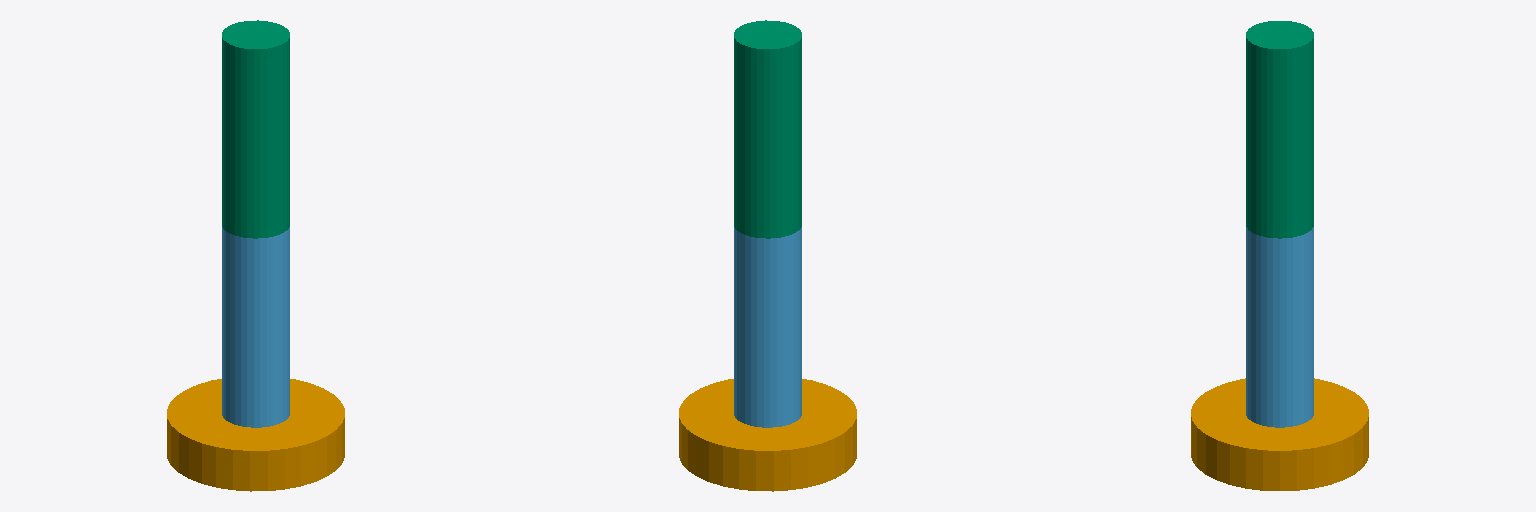
The robot description file, URDF, robot "pole":
<?xml version='1.0'?>
<robot name ="pole">
    <link name="basepole_link">    

      <inertial>
        <mass value="100" />
        <inertia ixx="1.0" ixy="0.0" ixz="0.0" iyy="1.0" iyz="0.0" izz="1.0" />
      </inertial>

      <visual>
      <origin xyz= "0 0 0"/>
        <geometry>
          <cylinder length="0.15" radius="0.30"/>
        </geometry>
      </visual> 

      <collision>
        <origin xyz="0 0 0"/>
        <geometry>
             <cylinder length="0.15" radius="0.30"/>
        </geometry>
      </collision>

      </link>

        <gazebo reference="basepole_link">
        <material>Gazebo/Green</material>
        <turnGravityOff>true</turnGravityOff>
    </gazebo>
  
      <link name="firstpole_link">    
   
    <inertial>
        <mass value="100" />
        <inertia ixx="1.0" ixy="0.0" ixz="0.0" iyy="1.0" iyz="0.0" izz="1.0" />
    </inertial>

      <visual>
        <origin xyz= "0 0 0.425"/>
        <geometry>
          <cylinder length="0.70" radius="0.115"/>
        </geometry>
      </visual> 

      <collision>
      <origin xyz= "0 0 0.425"/>
        <geometry>
          <cylinder length="0.70" radius="0.115"/>
        </geometry>
      </collision>


      </link>
     

      <joint name="basepole_to_firstpole" type="fixed">
      <parent link="basepole_link"/>
       <child link="firstpole_link"/>
     </joint>

       <gazebo reference="firstpole_link">
        <material>Gazebo/Green</material>
        <turnGravityOff>true</turnGravityOff>
    </gazebo>


    <link name="secondpole_link">    

    <inertial>
        <mass value="100" />
        <inertia ixx="1.0" ixy="0.0" ixz="0.0" iyy="1.0" iyz="0.0" izz="1.0" />
    </inertial>

      <visual>
        <origin xyz= "0 0 1.125"/>
        <geometry>
          <cylinder length="0.70" radius="0.115"/>
        </geometry>
      </visual> 

      <collision>
      <origin xyz= "0 0 1.125"/>
        <geometry>
          <cylinder length="0.70" radius="0.115"/>
        </geometry>
      </collision>

    </link>

    <gazebo reference="secondpole_link">
        <material>Gazebo/Green</material>
        <turnGravityOff>true</turnGravityOff>
    </gazebo>


 <joint name="basepole_to_secondpole" type="fixed">
      <parent link="basepole_link"/>
       <child link="secondpole_link"/>
     </joint>
      


        
    </robot>

--- Render facts (derived) ---
3 views of the same robot in one strip: view 1: azimuth 30°, elevation 25°; view 2: azimuth 150°, elevation 25°; view 3: azimuth 270°, elevation 25° (orthographic).
Robot: pole — 3 links, 2 joints (2 fixed); root link basepole_link; default pose: all joints at 0.
Visible links, largest first — view 1: basepole_link, secondpole_link, firstpole_link; view 2: basepole_link, secondpole_link, firstpole_link; view 3: basepole_link, secondpole_link, firstpole_link.
Link boxes in pixels (<box>): basepole_link: <box>167,379,344,491</box>; secondpole_link: <box>222,20,289,238</box>; firstpole_link: <box>222,227,289,427</box>; basepole_link: <box>679,379,856,491</box>; secondpole_link: <box>734,20,801,238</box>; firstpole_link: <box>734,227,801,427</box>; basepole_link: <box>1191,378,1368,490</box>; secondpole_link: <box>1246,21,1313,238</box>; firstpole_link: <box>1246,227,1313,427</box>.
Bounding box of the posed robot: 0.6 × 0.6 × 1.55 m (x, y, z).
Geometry: primitives only (box / cylinder / sphere), no mesh files.